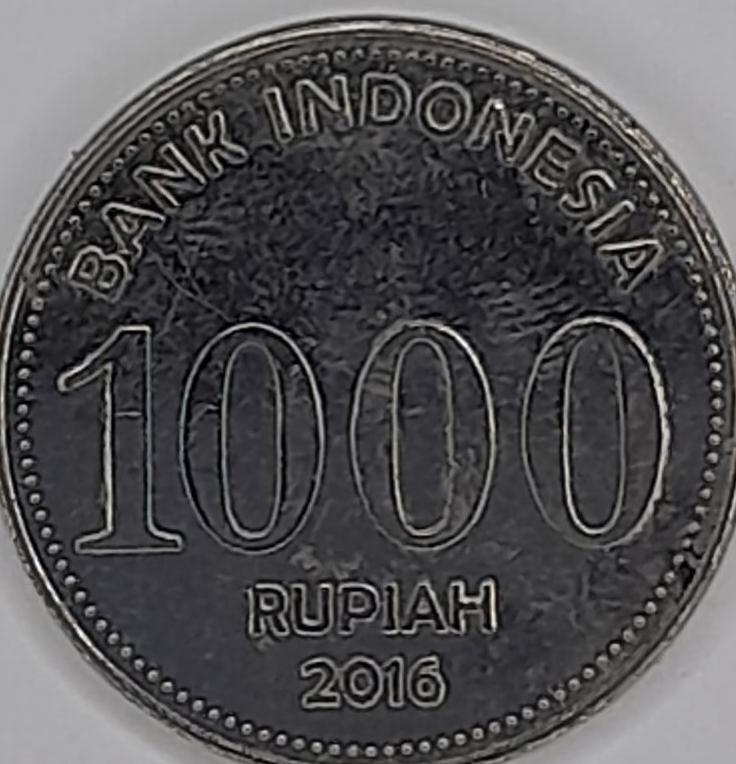coin_1000_e2016: (13, 15, 726, 764)
